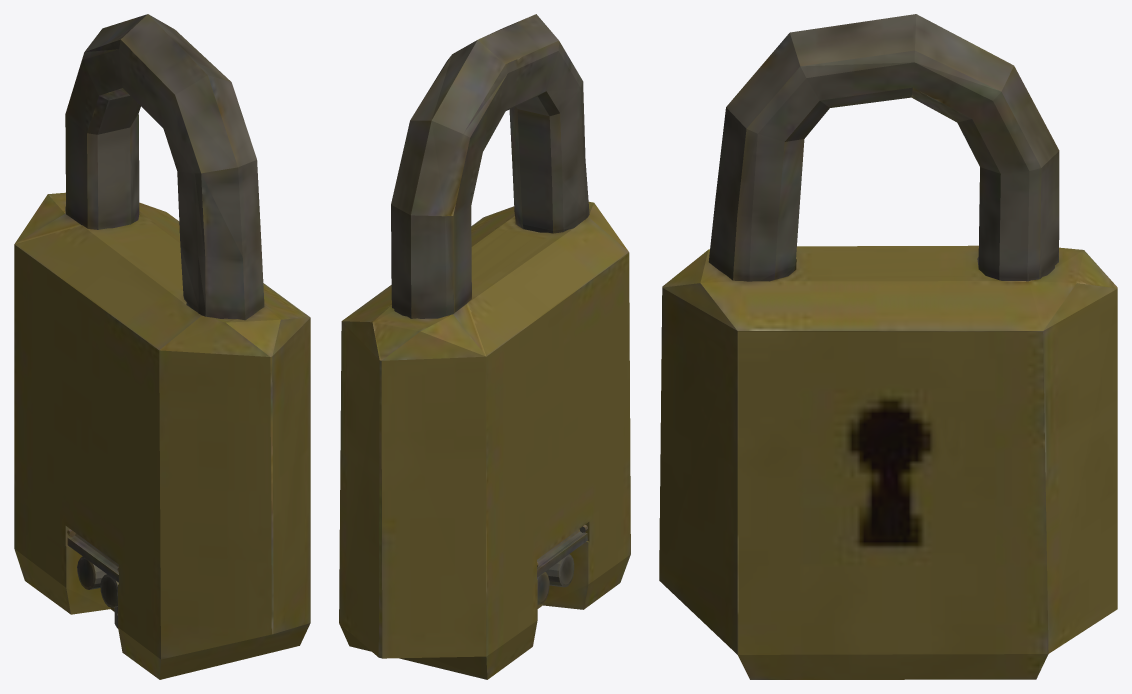
Rendered from padlock.glb.
3 views of the same model, side by side, from view 1: azimuth 30°, elevation 25°; view 2: azimuth 150°, elevation 25°; view 3: azimuth 270°, elevation 25° (orthographic). The views are drawn at different scales.
Visible parts, largest first — view 1: tripo_node_31f55bdc-c6a4-4305-a891-a80069ace758; view 2: tripo_node_31f55bdc-c6a4-4305-a891-a80069ace758; view 3: tripo_node_31f55bdc-c6a4-4305-a891-a80069ace758.
Part boxes in pixels (box(x1,y1,x2,y2)): tripo_node_31f55bdc-c6a4-4305-a891-a80069ace758: box(14, 14, 310, 679); tripo_node_31f55bdc-c6a4-4305-a891-a80069ace758: box(339, 14, 630, 679); tripo_node_31f55bdc-c6a4-4305-a891-a80069ace758: box(659, 14, 1117, 679).
Bounding box in the file's own units: 0.2622 × 0.9995 × 0.6567.
Materials: 1 (1 with a texture image).
